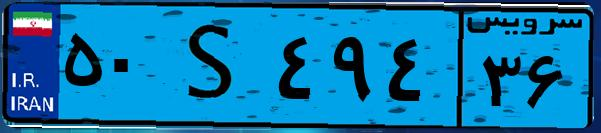0: (110, 28, 158, 98)
3: (475, 38, 525, 113)
4: (270, 28, 330, 110), (385, 28, 445, 110)
5: (57, 26, 110, 100)
6: (525, 38, 570, 115)
9: (330, 28, 385, 110)
S: (158, 12, 270, 120)
